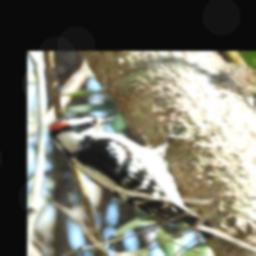Woodpecker: (49, 114, 202, 227)
